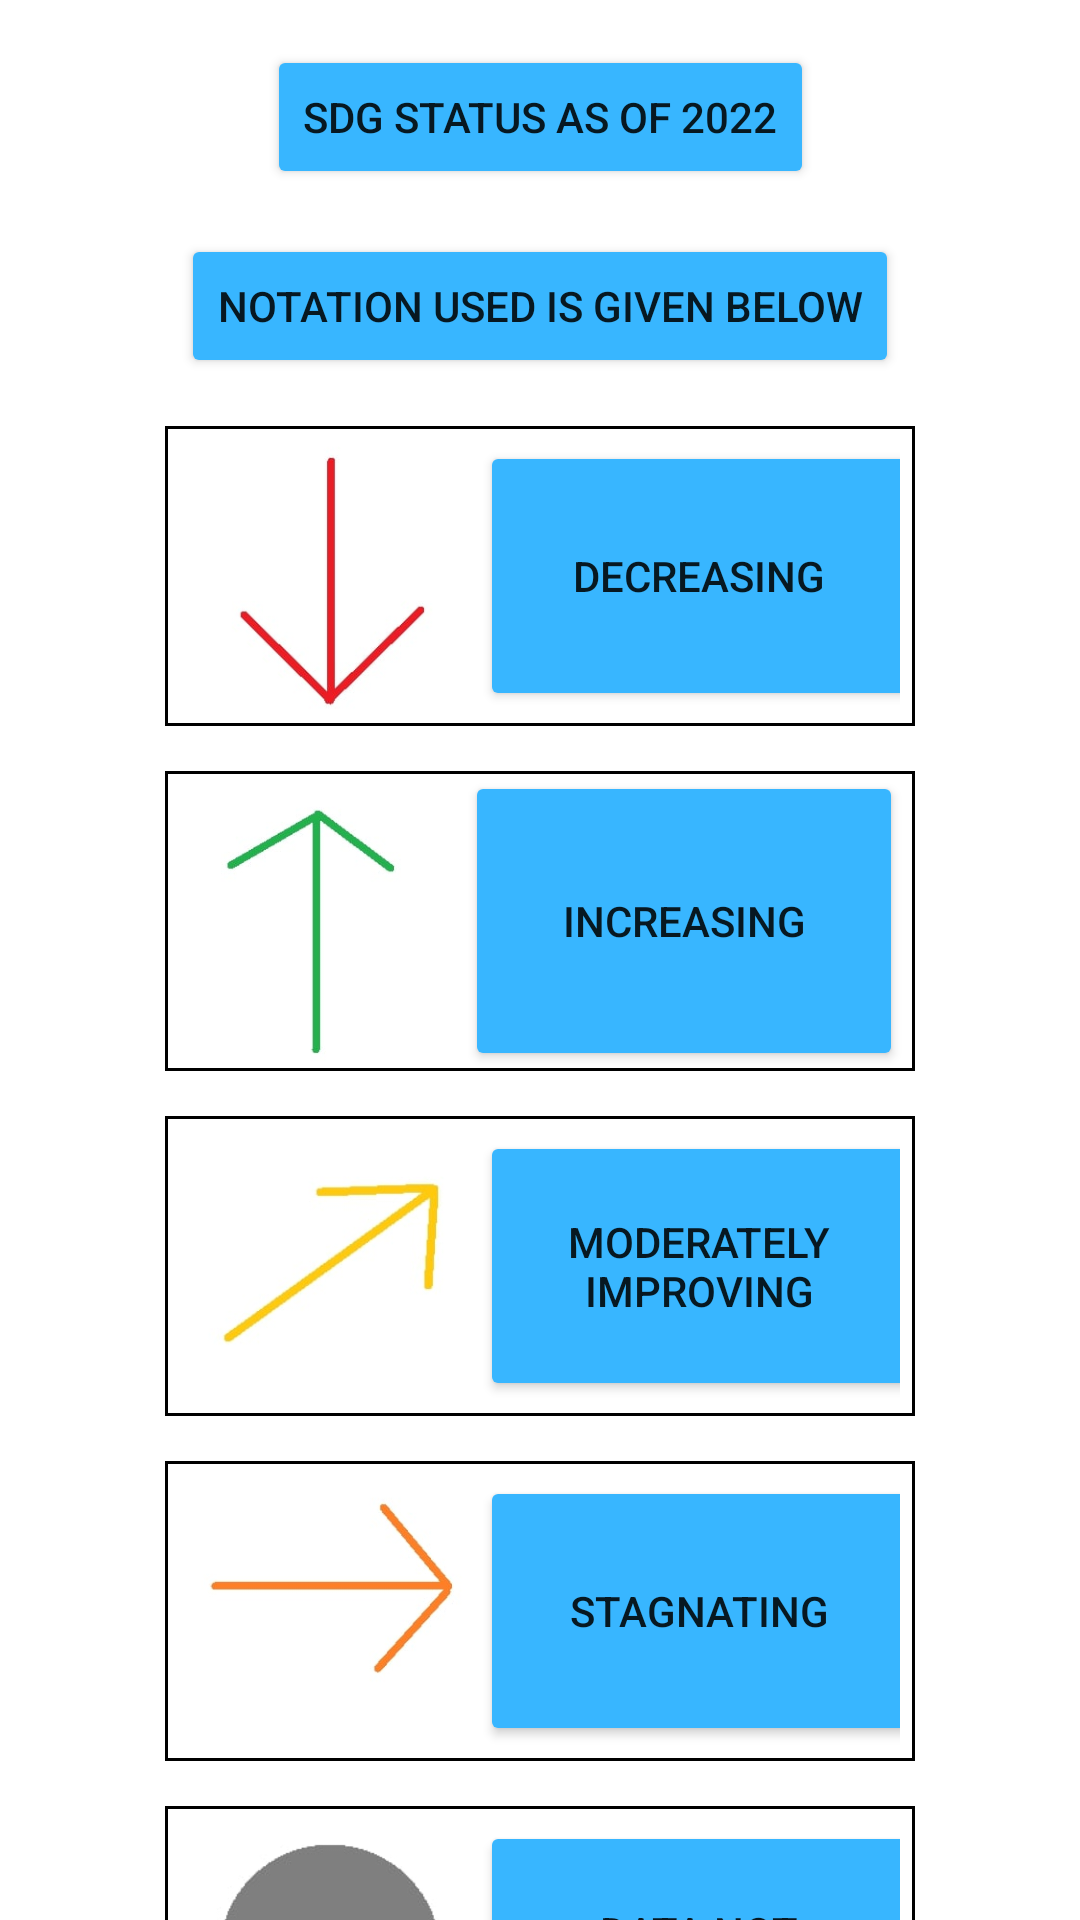

Named icons in this screenshot (1080px×1920px) and their bounding boxes, (x1, y1, x2, y2):
dec: (240, 457, 425, 705)
inc: (226, 810, 395, 1054)
